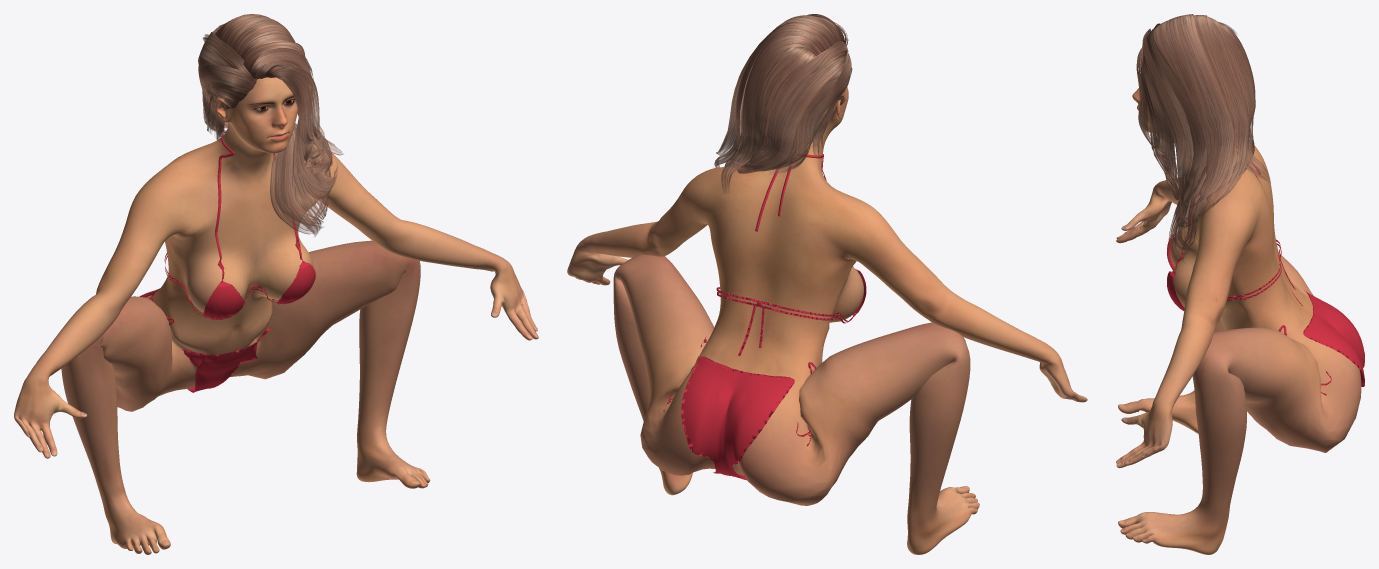
Rendered from female_squat_v2.glb.
The picture shows the model from 3 angles, left to right: view 1: azimuth 30°, elevation 25°; view 2: azimuth 150°, elevation 25°; view 3: azimuth 270°, elevation 25°; orthographic projection. The views are drawn at different scales.
Parts seen in each view (by area): view 1: Body, Body.elvs_adrienne_hair, Bikini; view 2: Body, Body.elvs_adrienne_hair, Bikini; view 3: Body, Body.elvs_adrienne_hair, Bikini.
Part boxes in pixels (left/top/right/bottom): Body: left=14, top=77, right=538, bottom=554; Body.elvs_adrienne_hair: left=198, top=14, right=343, bottom=236; Bikini: left=139, top=131, right=315, bottom=392; Body: left=567, top=68, right=1087, bottom=554; Body.elvs_adrienne_hair: left=714, top=14, right=852, bottom=193; Bikini: left=663, top=154, right=866, bottom=480; Body: left=1116, top=88, right=1361, bottom=554; Body.elvs_adrienne_hair: left=1136, top=14, right=1270, bottom=263; Bikini: left=1167, top=146, right=1364, bottom=395.
Size of the model in its own units: 1.16 by 1.09 by 0.5146.
Materials: 8 (7 with a texture image).
